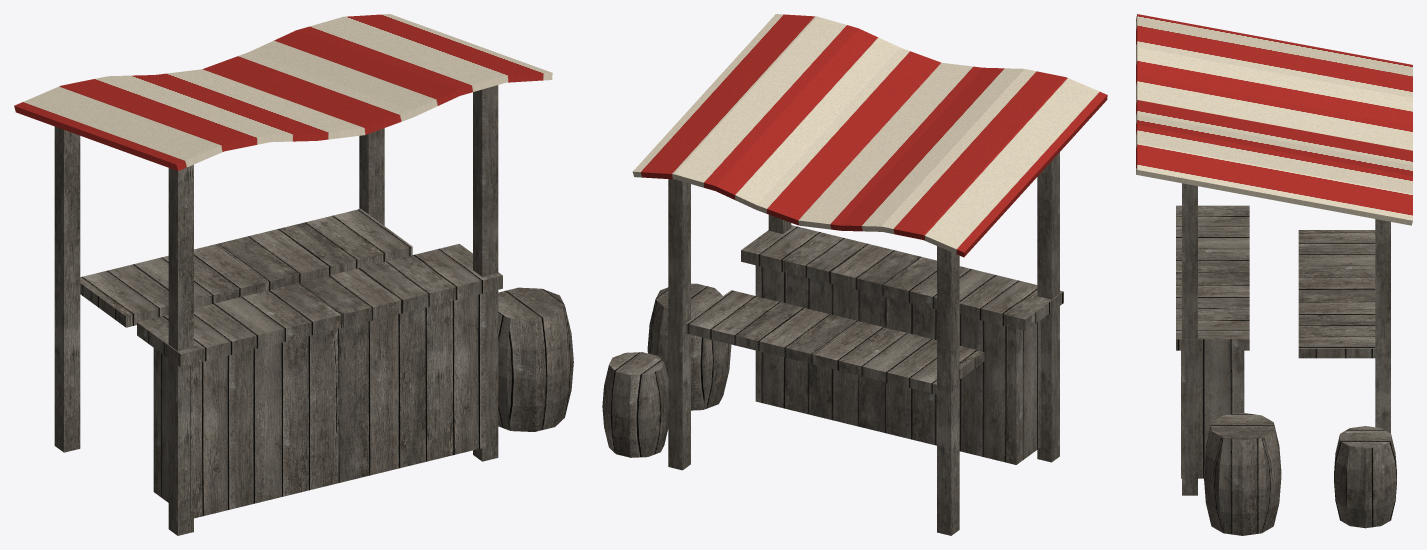
File: Prop_TavernStall.fbx
The picture shows the model from 3 angles, left to right: view 1: azimuth 30°, elevation 25°; view 2: azimuth 150°, elevation 25°; view 3: azimuth 270°, elevation 25°; orthographic projection. The views are drawn at different scales.
Parts seen in each view (by area): view 1: TavernStall_Mesh; view 2: TavernStall_Mesh; view 3: TavernStall_Mesh.
Boxes of the visible parts, <box> form: TavernStall_Mesh: <box>14,14,573,535</box>; TavernStall_Mesh: <box>602,14,1107,535</box>; TavernStall_Mesh: <box>1136,14,1412,535</box>.
Bounding box in the file's own units: 2.53 × 2.17 × 1.58.
2 materials, 2 textured.
